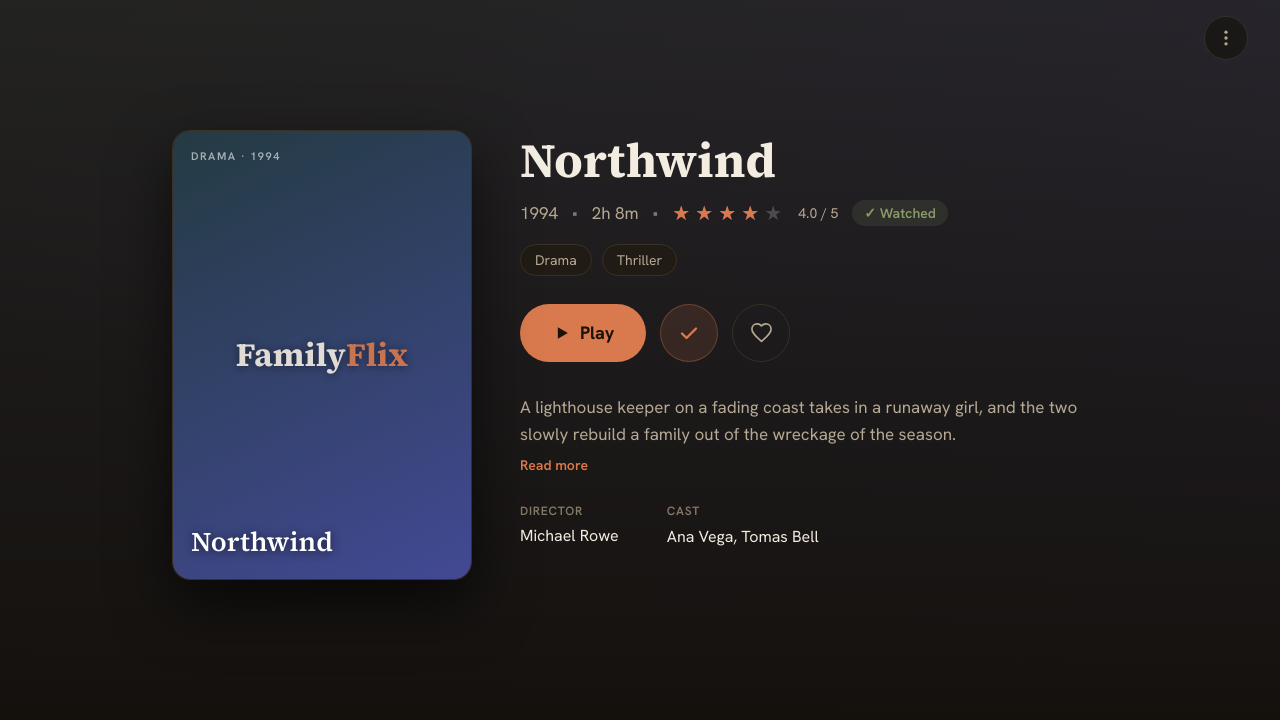
Test: MovieDetail — the two toggles › un-marks a movie marked by mistake
Expected: the text "✓ Watched" is shown, [852,200,948,226]
Click the button named "watched, click to unmark". click: (689, 333)
box: [660,304,718,362]
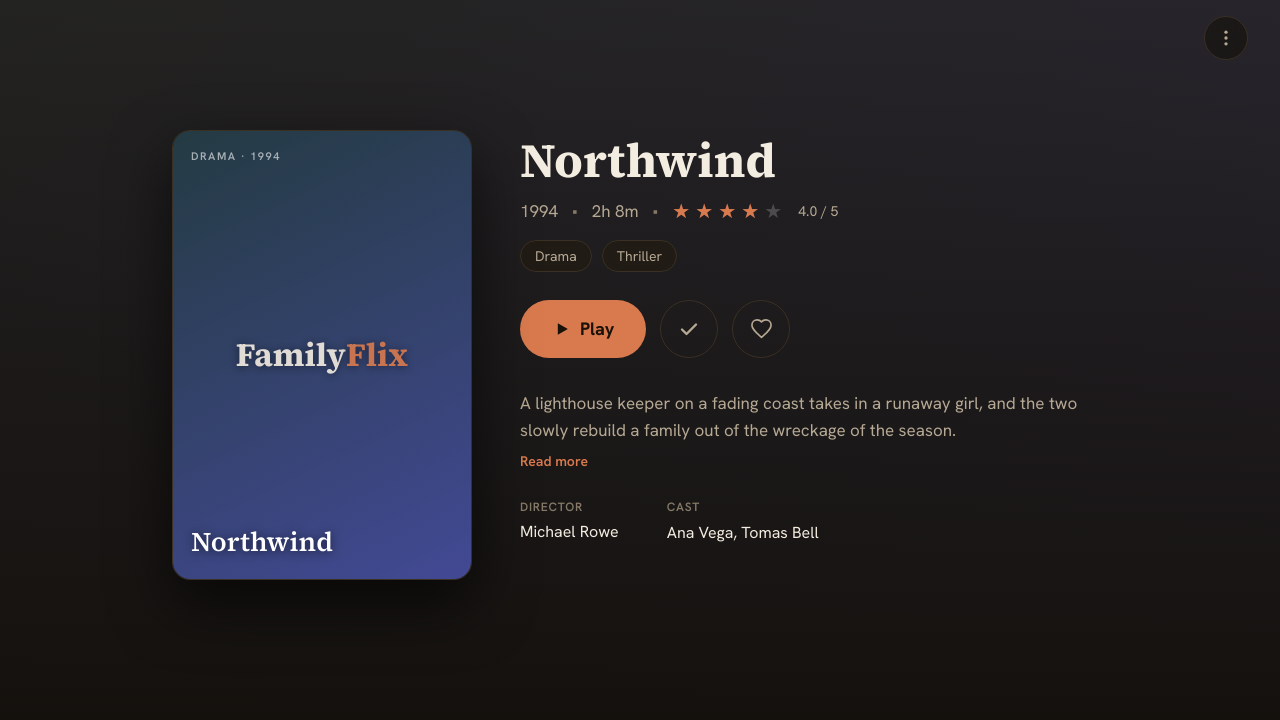
Result: the button named "mark as watched" is shown at [660,300,718,358]
Result: the text "✓ Watched" is gone
